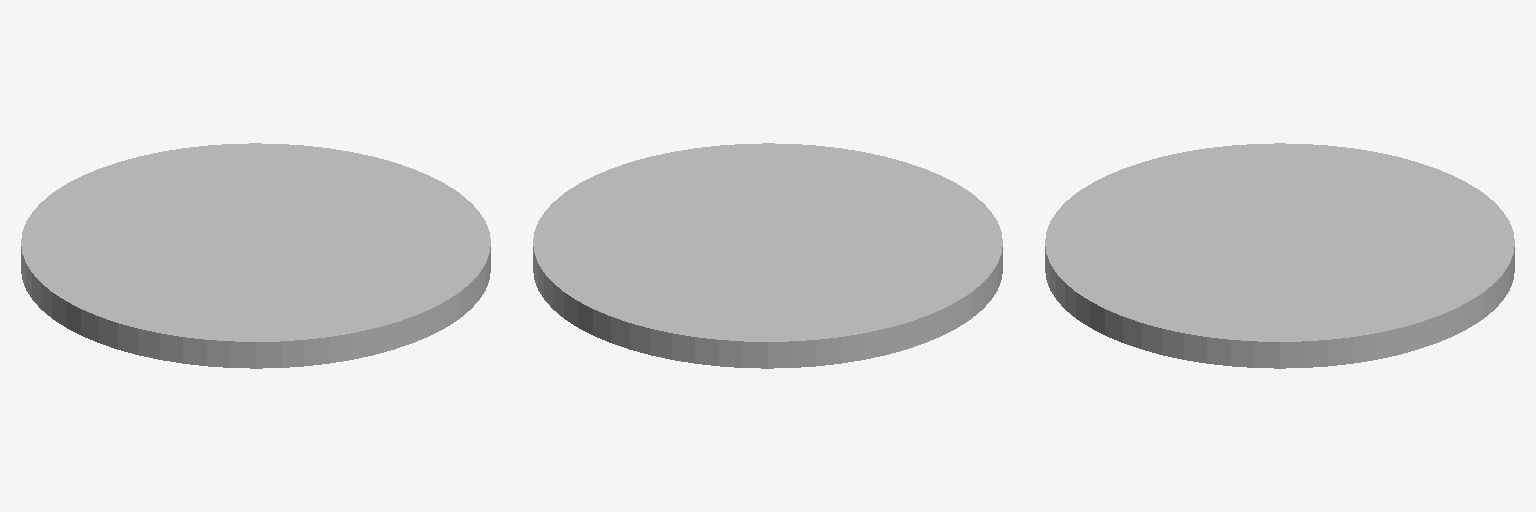
File: mishen.obj
3 renders of one model, left to right at view 1: azimuth 30°, elevation 25°; view 2: azimuth 150°, elevation 25°; view 3: azimuth 270°, elevation 25°, orthographic.
Visible parts, largest first — view 1: Cylinder01; view 2: Cylinder01; view 3: Cylinder01.
Boxes of the visible parts, <box> form: Cylinder01: <box>21,143,490,368</box>; Cylinder01: <box>533,143,1002,368</box>; Cylinder01: <box>1045,143,1514,368</box>.
Size of the model in its own units: 0.32 by 0.02 by 0.32.